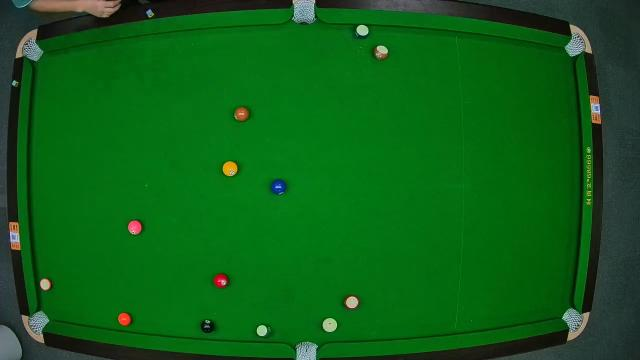bag1: (21, 40, 39, 61)
bag2: (292, 0, 316, 24)
bag3: (566, 33, 586, 55)
bag4: (27, 310, 47, 332)
bag5: (294, 340, 318, 360)
bag6: (564, 308, 584, 332)
ball0: (322, 318, 338, 334)
ball1: (222, 162, 238, 178)
ball10: (354, 25, 370, 40)
ball11: (344, 294, 360, 310)
ball12: (39, 278, 51, 290)
ball14: (256, 322, 272, 338)
ball15: (374, 44, 390, 60)
ball2: (271, 178, 287, 196)
ball3: (213, 273, 230, 289)
ball4: (128, 220, 142, 236)
ball5: (118, 312, 132, 326)
ball7: (234, 106, 250, 122)
ball8: (201, 319, 215, 333)
